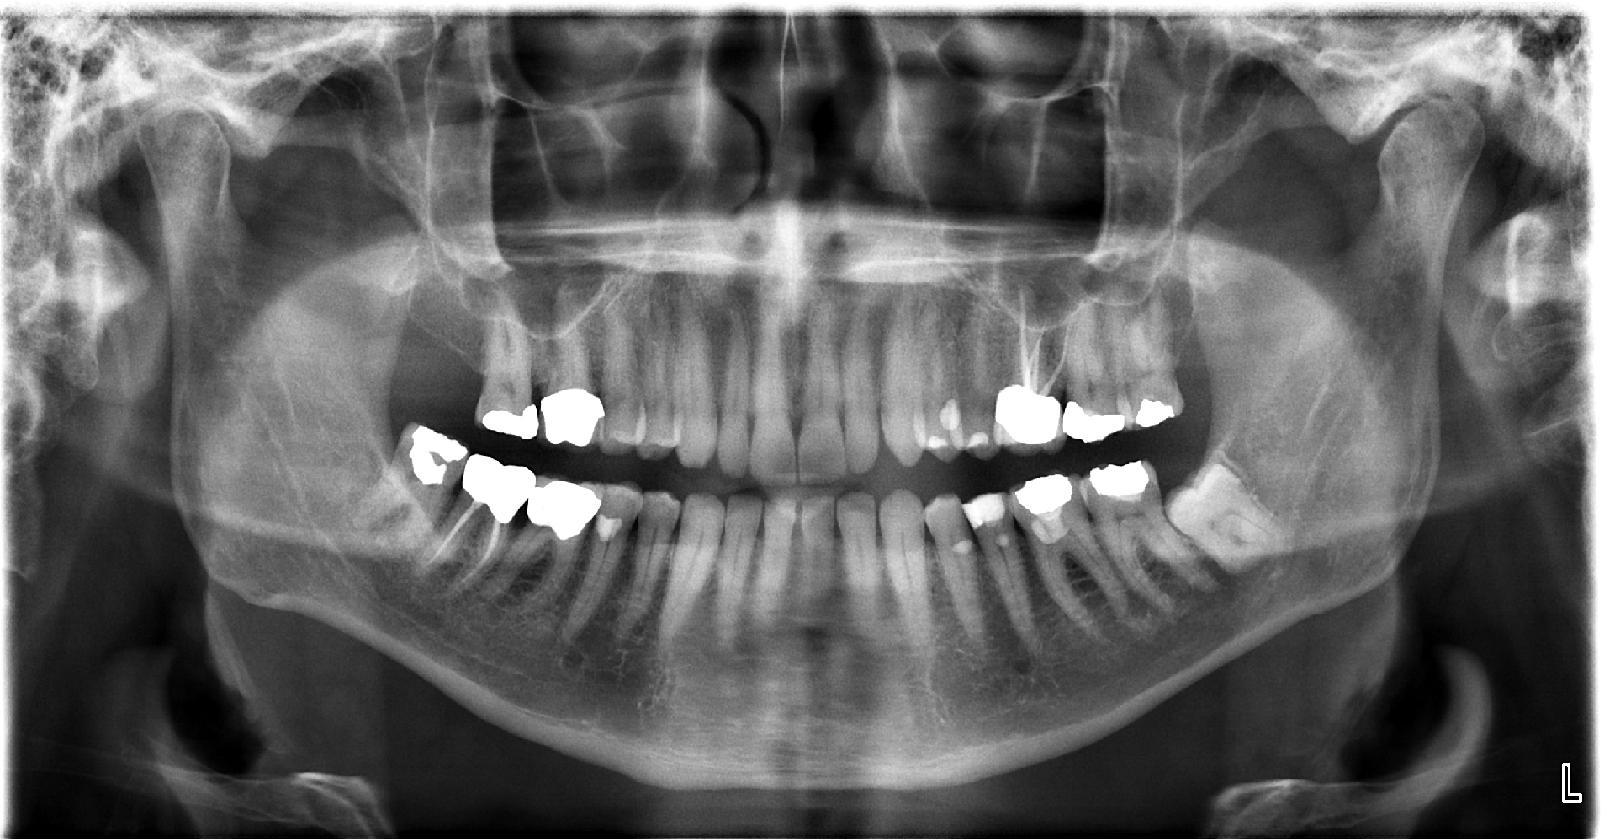Erupted: (336, 416, 474, 560)
Mesio-angular: (1162, 454, 1294, 578)
